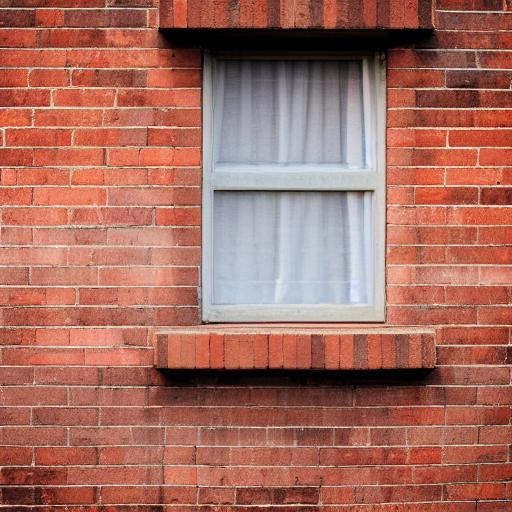Window: (150, 0, 439, 377)
